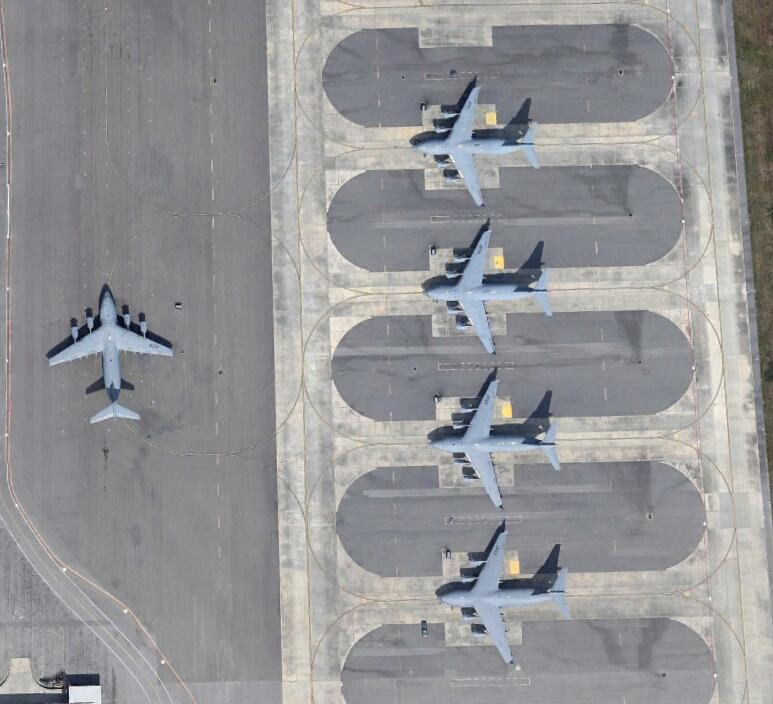A3: (436, 528, 570, 670), (426, 374, 562, 512), (47, 285, 175, 426), (425, 228, 553, 358), (413, 84, 541, 208)
